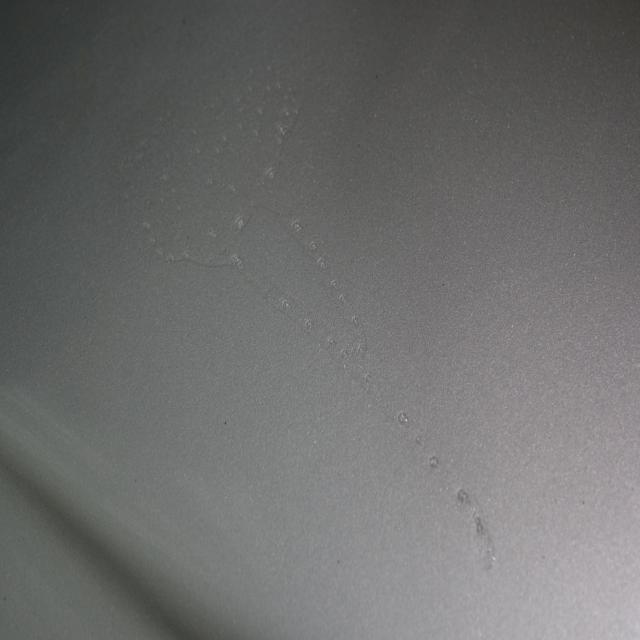runs: (121, 24, 500, 571)
